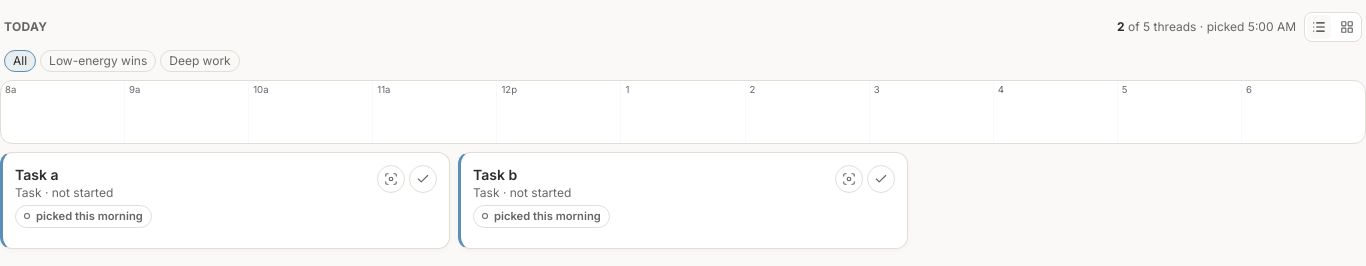
TodaySection — "N hidden by filter" empty state (Clarity Phase 7 repair) › shows "N hidden by filter" instead of a bare empty list
Expected: the element with test id "today-list" is shown, [0, 152, 908, 249]
Click the button with test id "energy-filter-deep_work". click: (200, 61)
box: [160, 50, 240, 72]
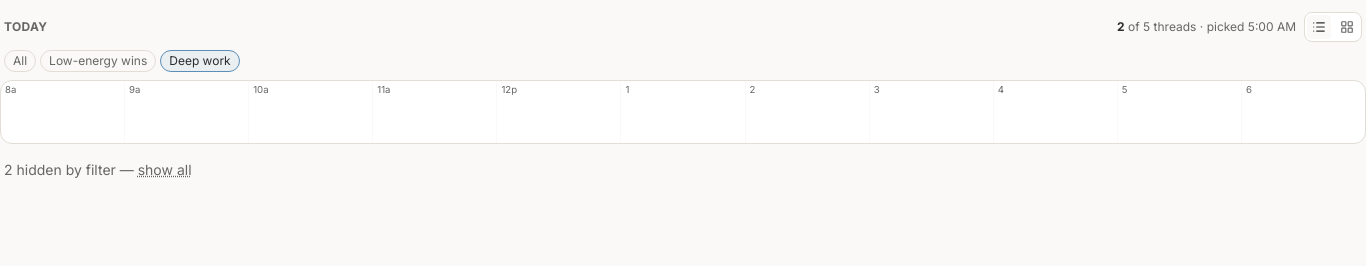
Now the element with test id "energy-filter-empty" shows "2 hidden by filter", box [4, 160, 192, 180]
Now the element with test id "today-list" is gone
